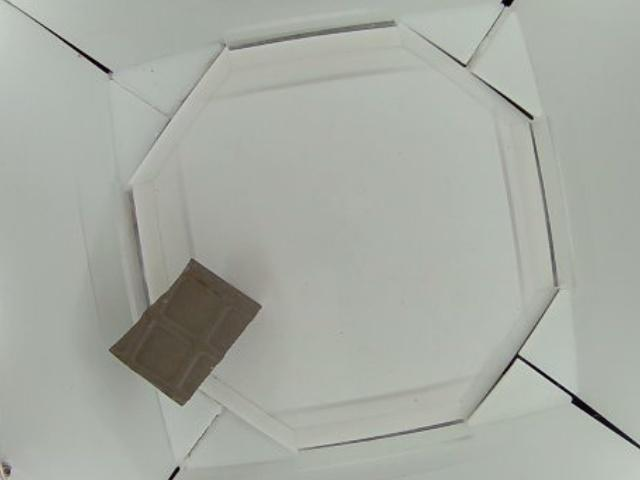China: (108, 254, 260, 410)
